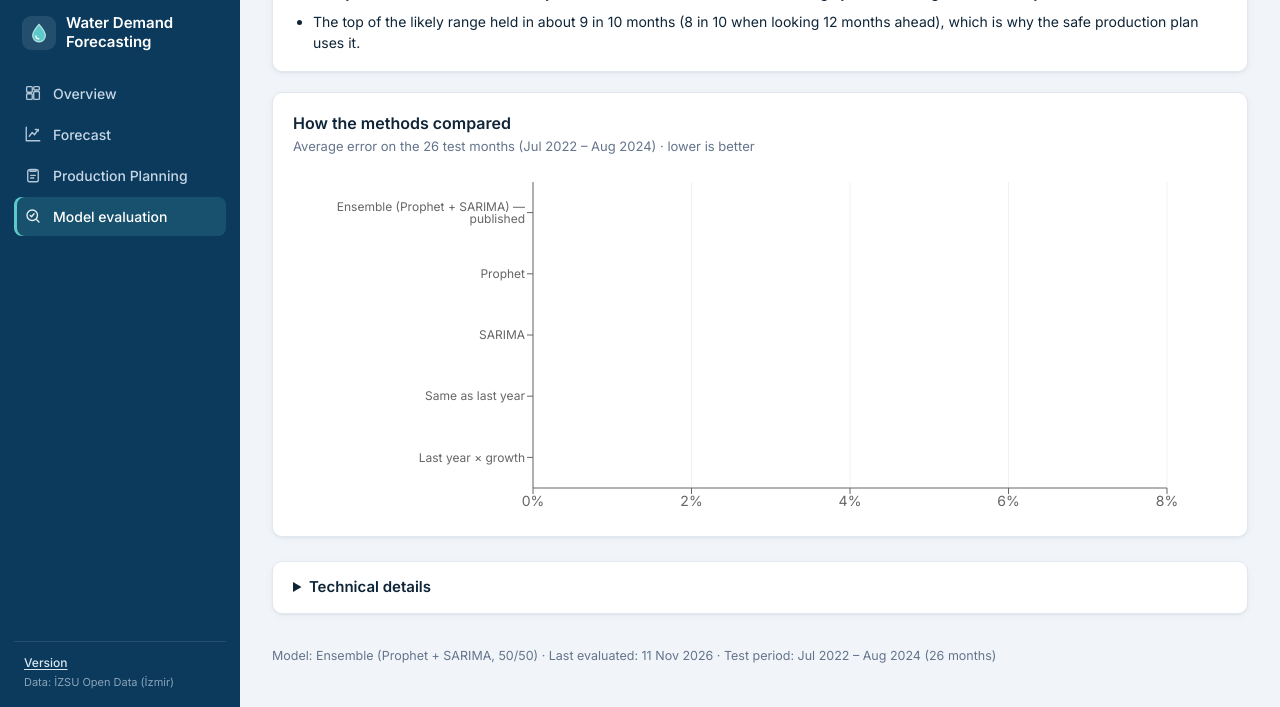
Test case: no file path is rendered anywhere on the page
The image size is (1280, 707).
(page scrolled)
Click the heading "Technical details". click: {"x": 370, "y": 586}
box: [272,561,1248,614]
(page scrolled)
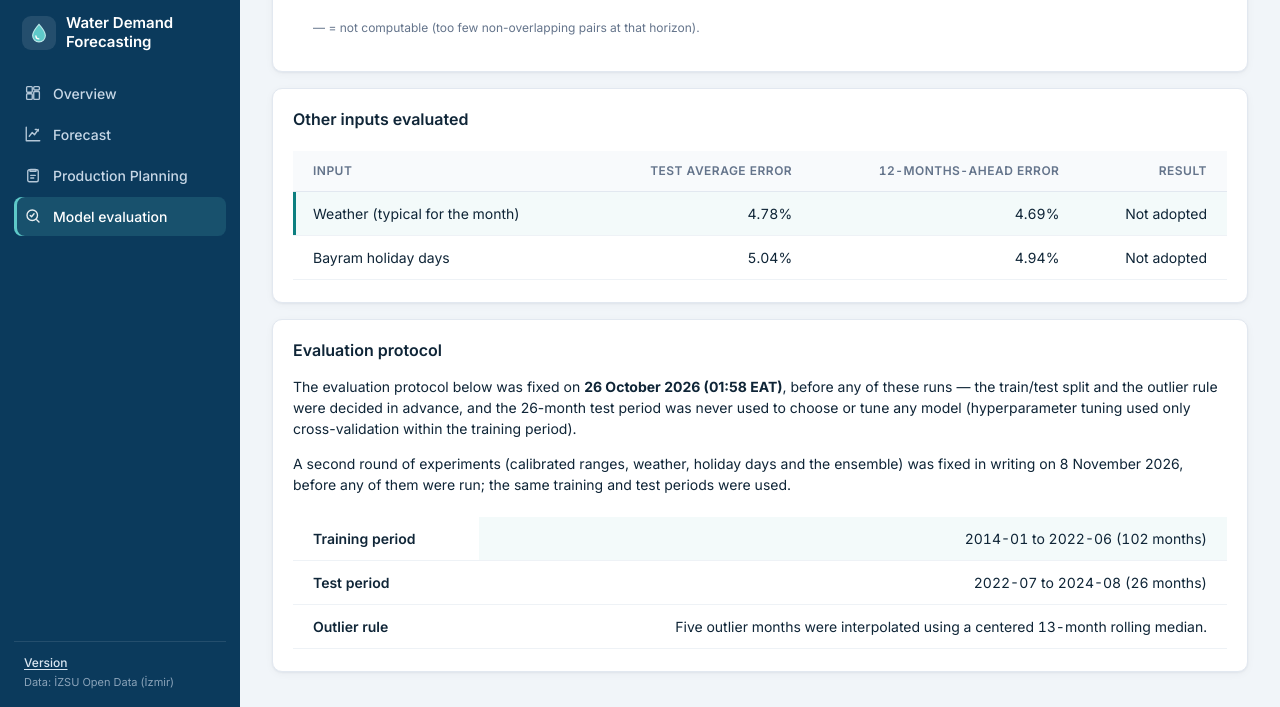
Check: the heading "Evaluation protocol" is shown, box [293,338,442,362]
